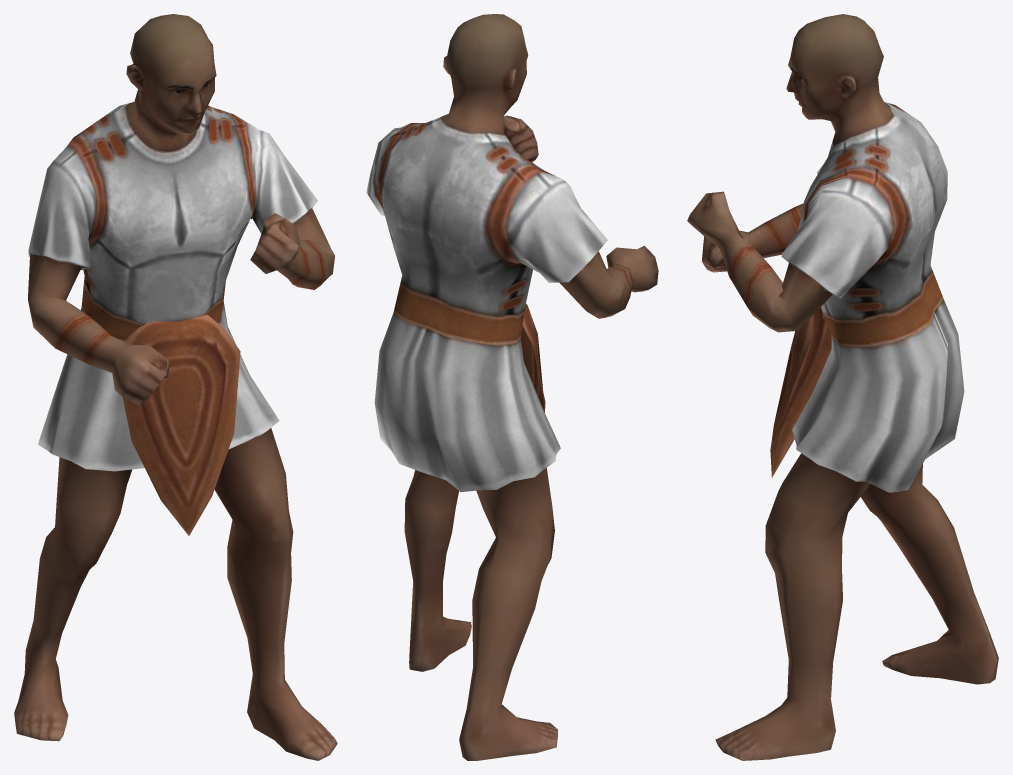
The model's file is body-mediumaxemen.glb.
3 renders of one model, left to right at view 1: azimuth 30°, elevation 25°; view 2: azimuth 150°, elevation 25°; view 3: azimuth 270°, elevation 25°, orthographic. The views are drawn at different scales.
Size of the model in its own units: 0.7948 by 1.99 by 0.8139.
1 material, 1 textured.
